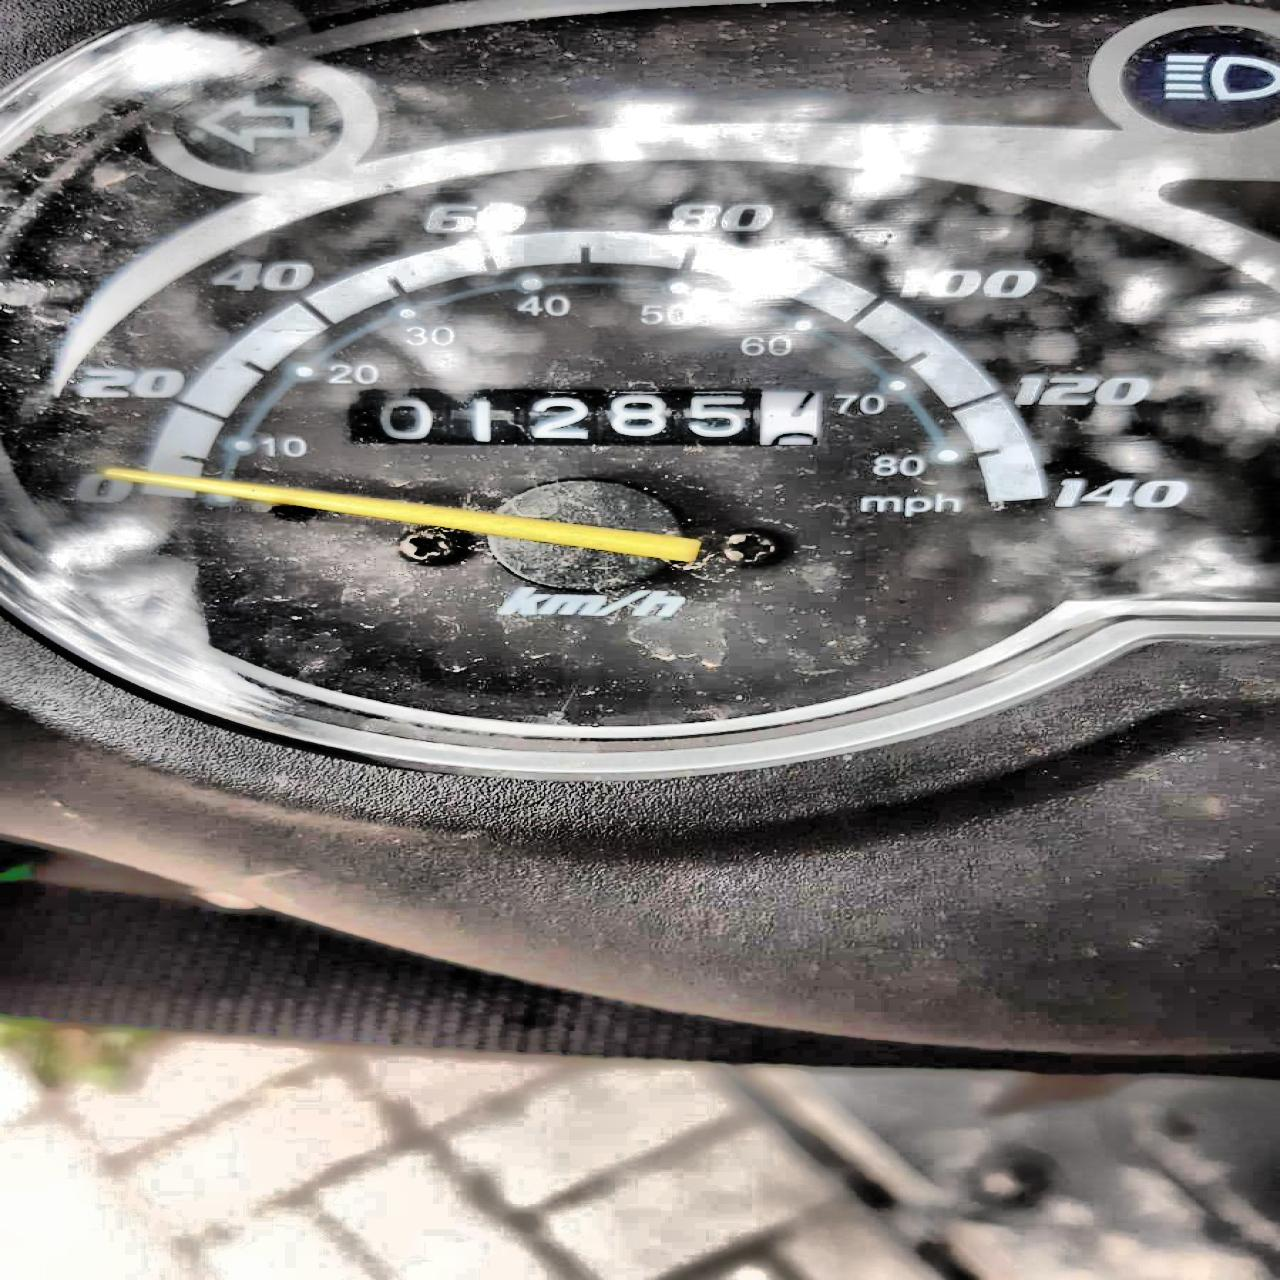0: (374, 395, 435, 443)
1: (464, 397, 506, 451)
2: (527, 395, 594, 445)
5: (687, 393, 750, 441)
7: (771, 384, 823, 424)
8: (608, 390, 672, 437)
odometer: (339, 383, 833, 456)
